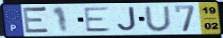1: (51, 6, 70, 35)
7: (173, 4, 197, 33)
E: (22, 5, 52, 35), (83, 6, 113, 34)
J: (116, 6, 138, 32)
U: (143, 5, 174, 32)
